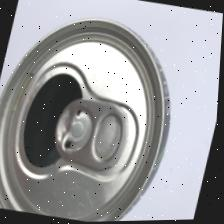metal: (0, 0, 204, 224)
